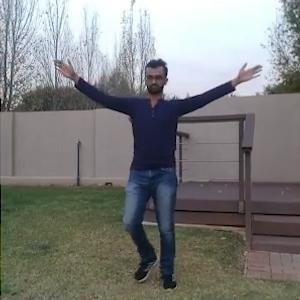takeoff: (62, 60, 264, 288)
